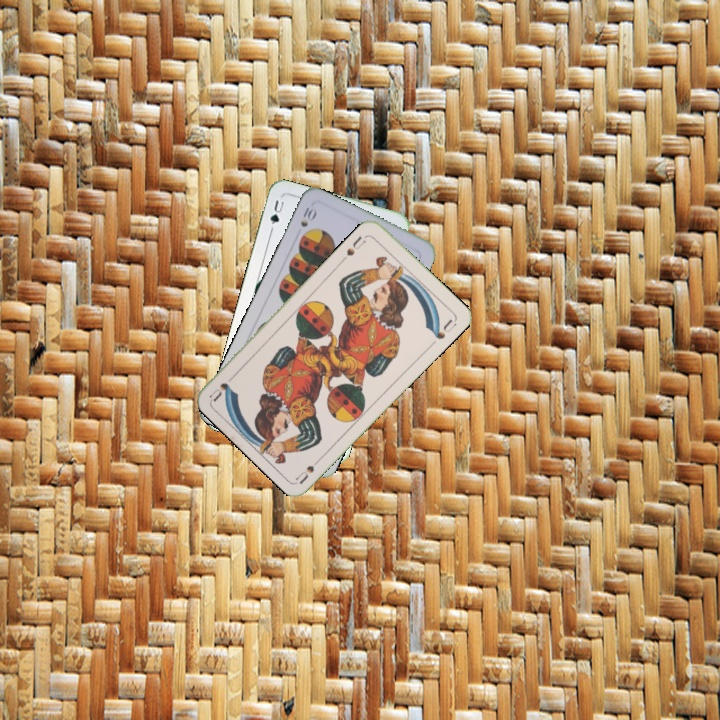GU: (266, 196, 286, 227)
S10: (296, 201, 319, 230)
SU: (292, 451, 326, 486), (338, 231, 371, 263)
